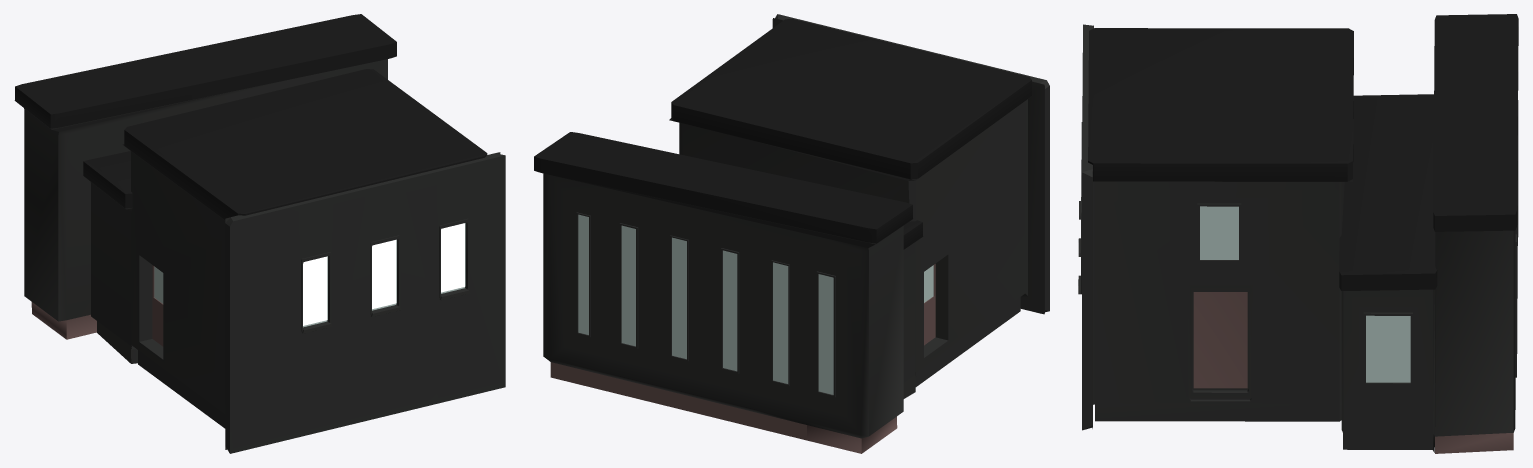
The model's file is building 148.fbx.
3 views of the same model, side by side, from view 1: azimuth 30°, elevation 25°; view 2: azimuth 150°, elevation 25°; view 3: azimuth 270°, elevation 25° (orthographic). The views are drawn at different scales.
Visible parts, largest first — view 1: BUILDING.148; view 2: BUILDING.148; view 3: BUILDING.148.
Part boxes in pixels (x1,y1,x2,y2): BUILDING.148: (14, 14, 505, 453); BUILDING.148: (534, 14, 1049, 453); BUILDING.148: (1078, 14, 1518, 453).
Bounding box in the file's own units: 211 × 137 × 208.
